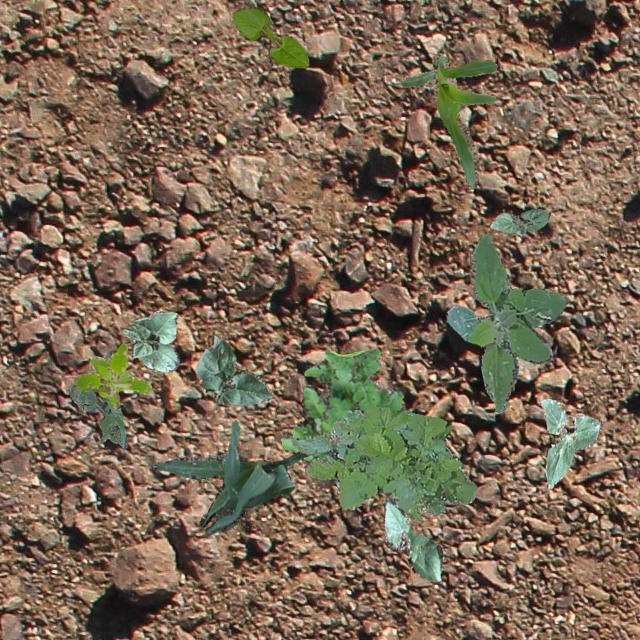crop: (150, 418, 308, 534), (400, 54, 496, 188), (194, 334, 272, 404), (540, 398, 600, 488), (382, 496, 442, 582), (232, 6, 308, 66), (122, 309, 178, 372), (490, 208, 550, 235)
weed: (446, 232, 566, 412), (290, 402, 476, 518), (279, 348, 412, 462), (68, 354, 126, 446), (76, 340, 150, 408)
